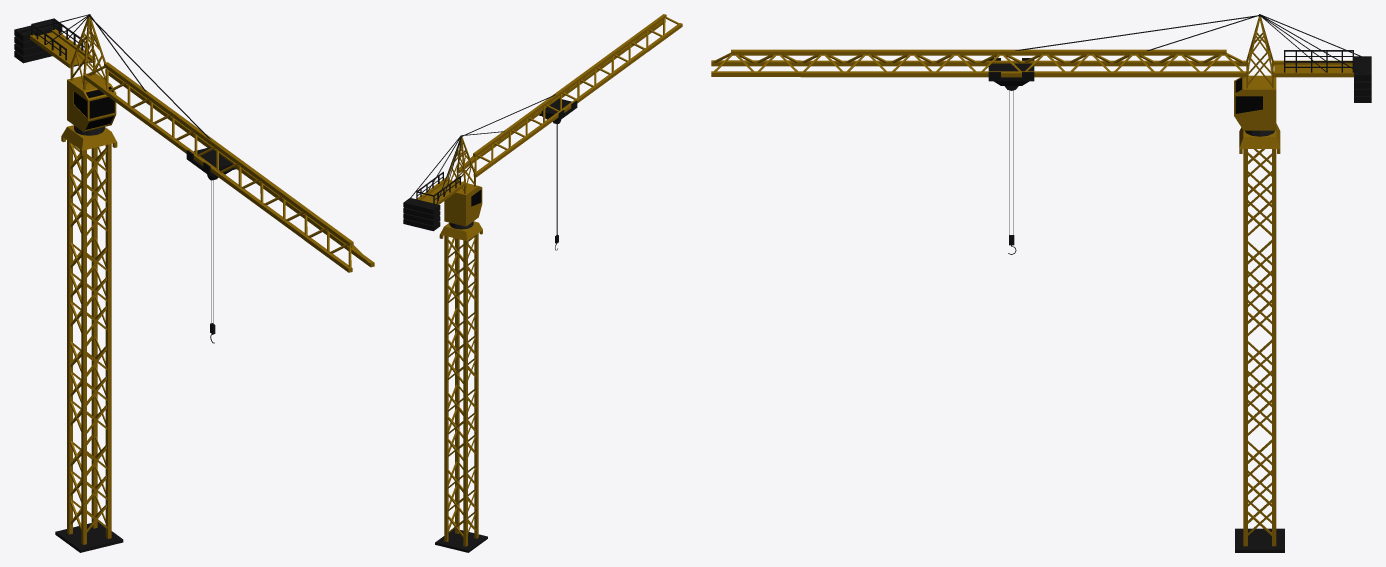
File: SM_constructioncrane.FBX
3 renders of one model, left to right at view 1: azimuth 30°, elevation 25°; view 2: azimuth 150°, elevation 25°; view 3: azimuth 270°, elevation 25°, orthographic. The views are drawn at different scales.
Visible parts, largest first — view 1: constructioncrane; view 2: constructioncrane; view 3: constructioncrane.
Boxes of the visible parts, x1,y1,x2,y2 form: constructioncrane: [14, 14, 374, 552]; constructioncrane: [403, 14, 682, 552]; constructioncrane: [711, 14, 1371, 552].
Size of the model in its own units: 228 by 2645 by 2998.
